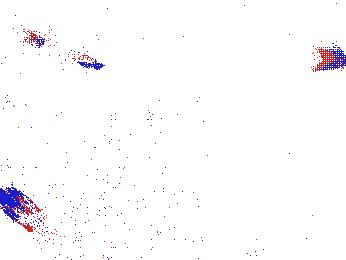redtail glassfish: (32, 33, 104, 71), (316, 45, 346, 70)
